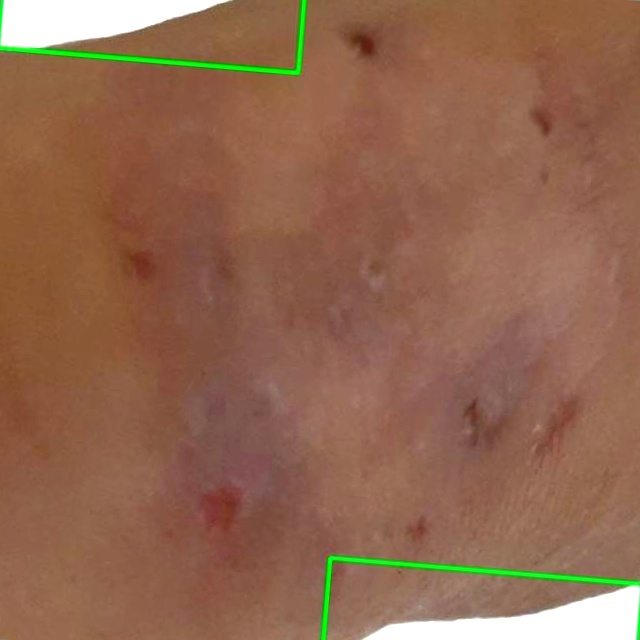Tinea Corporis: (323, 558, 639, 639), (0, 0, 304, 73)
